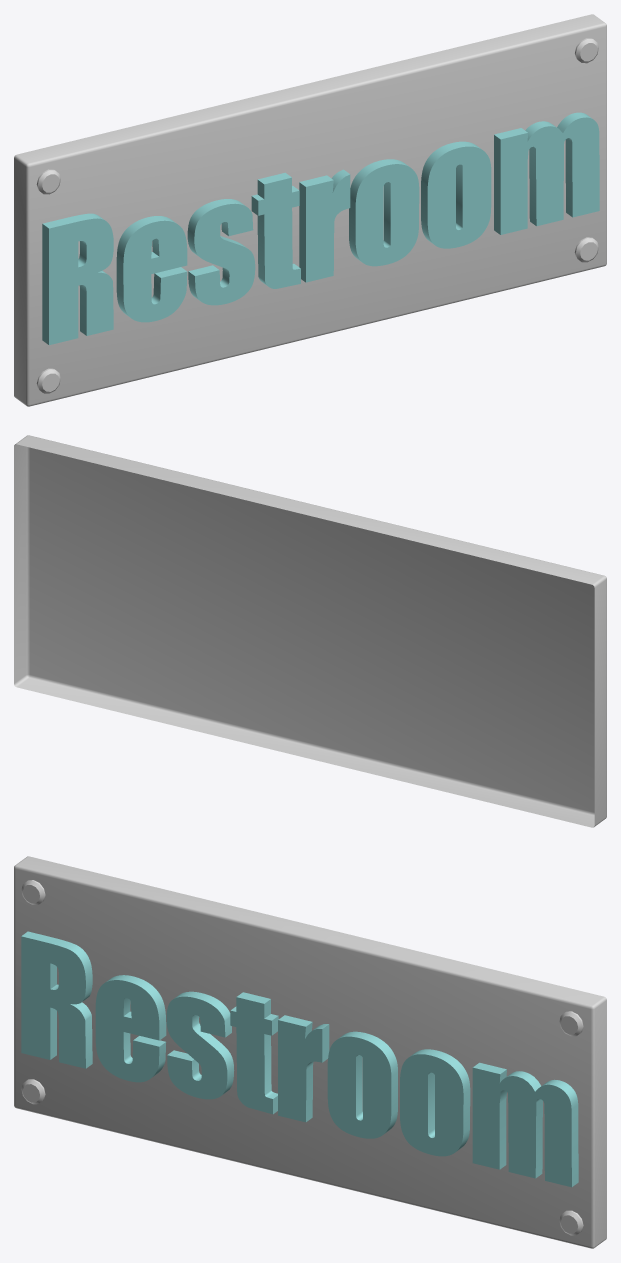
File: SM_RestroomSign.FBX
3 renders of one model, top to bottom at view 1: azimuth 30°, elevation 25°; view 2: azimuth 150°, elevation 25°; view 3: azimuth 330°, elevation 25°, orthographic.
Visible parts, largest first — view 1: SM_RestroomSign_LOD0; view 2: SM_RestroomSign_LOD0; view 3: SM_RestroomSign_LOD0.
Part boxes in pixels (box(x1,y1,x2,y2)): SM_RestroomSign_LOD0: box(14, 14, 606, 406); SM_RestroomSign_LOD0: box(14, 435, 606, 827); SM_RestroomSign_LOD0: box(14, 856, 606, 1248).
Bounding box in the file's own units: 50 × 3 × 20.
